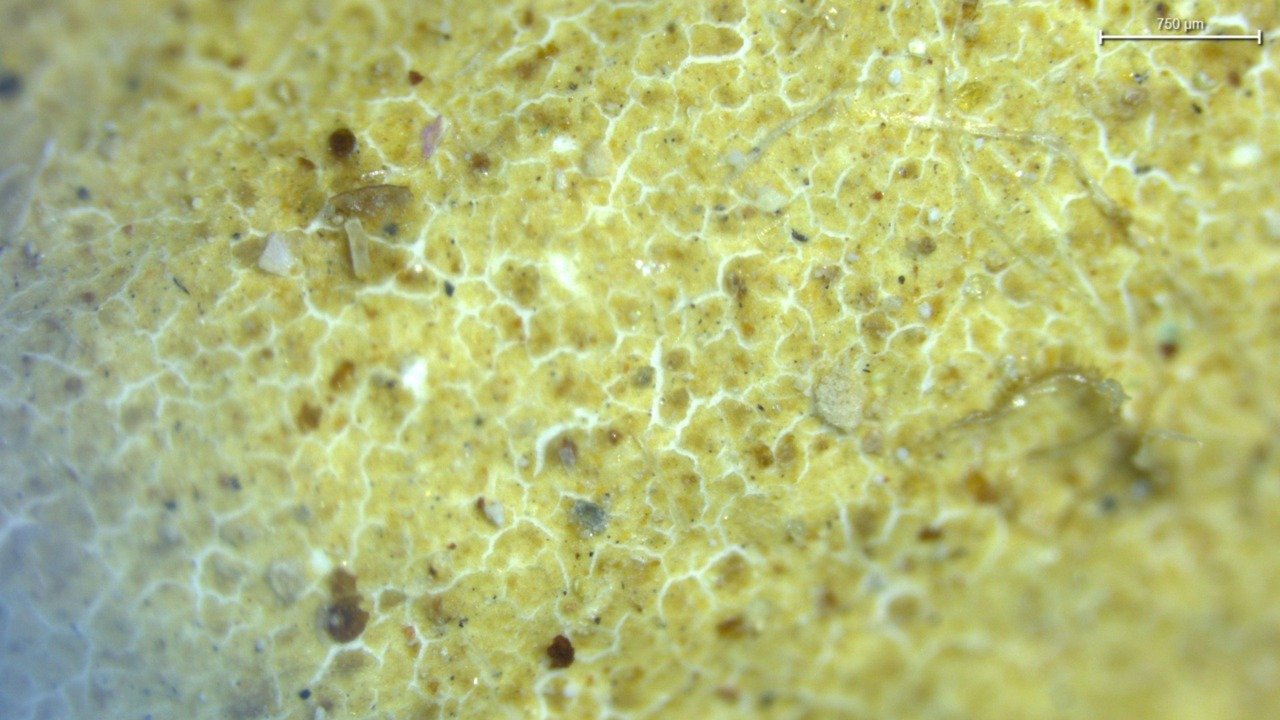microplastic_fragment: (815, 363, 865, 431), (258, 233, 295, 275)
